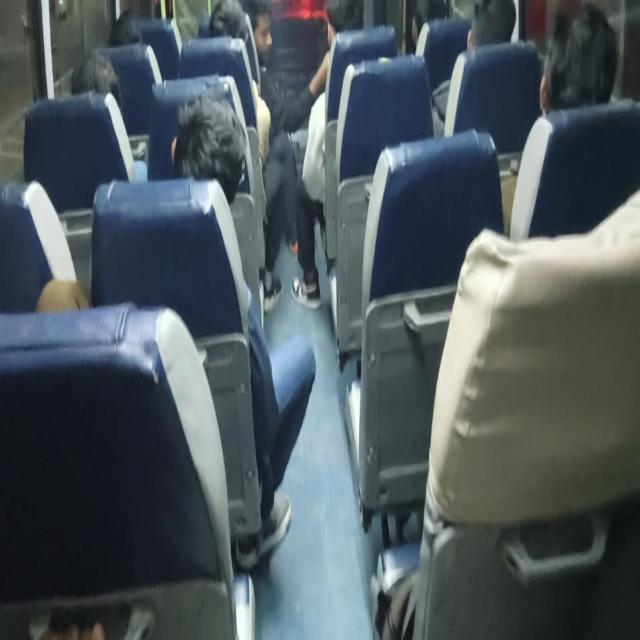person: (163, 103, 253, 212), (546, 28, 616, 98), (68, 52, 126, 115), (470, 0, 508, 53), (240, 4, 276, 53), (200, 3, 250, 37), (110, 17, 147, 52), (321, 0, 364, 30), (414, 1, 451, 35)
